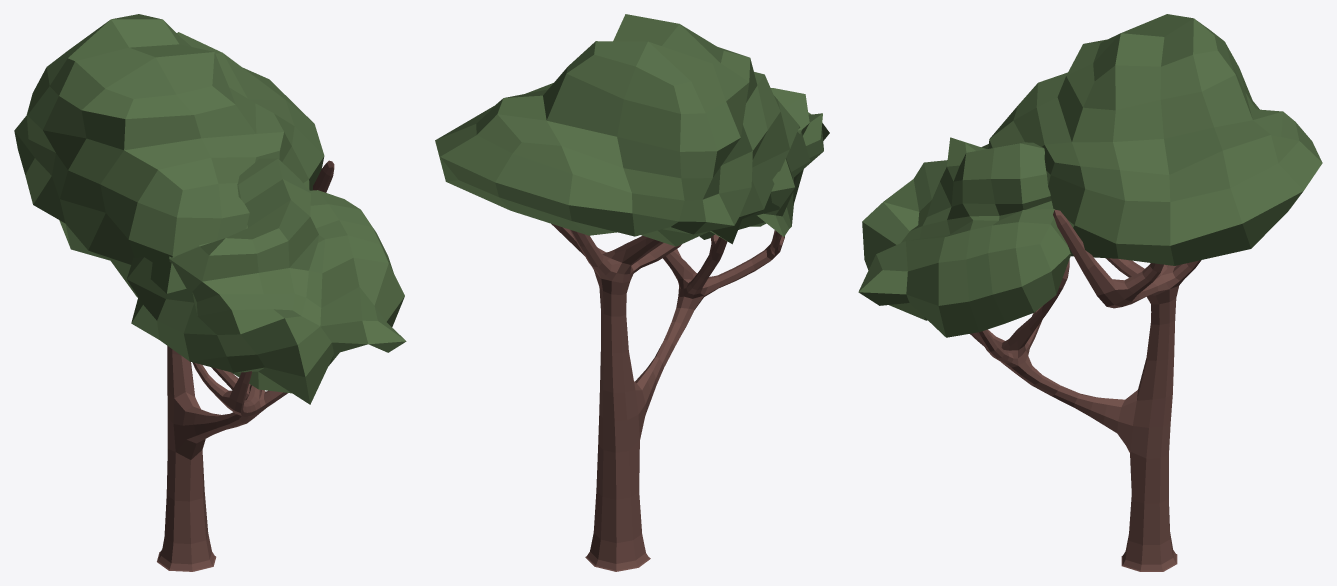
The model's file is commontree_2.glb.
3 renders of one model, left to right at view 1: azimuth 30°, elevation 25°; view 2: azimuth 150°, elevation 25°; view 3: azimuth 270°, elevation 25°, orthographic. The views are drawn at different scales.
Parts seen in each view (by area): view 1: CommonTree_2; view 2: CommonTree_2; view 3: CommonTree_2.
Part boxes in pixels (x1=…): CommonTree_2: x1=14, y1=14, x2=406, y2=571; CommonTree_2: x1=435, y1=14, x2=829, y2=571; CommonTree_2: x1=858, y1=14, x2=1322, y2=571.
Size of the model in its own units: 3.99 by 7.49 by 6.1.
